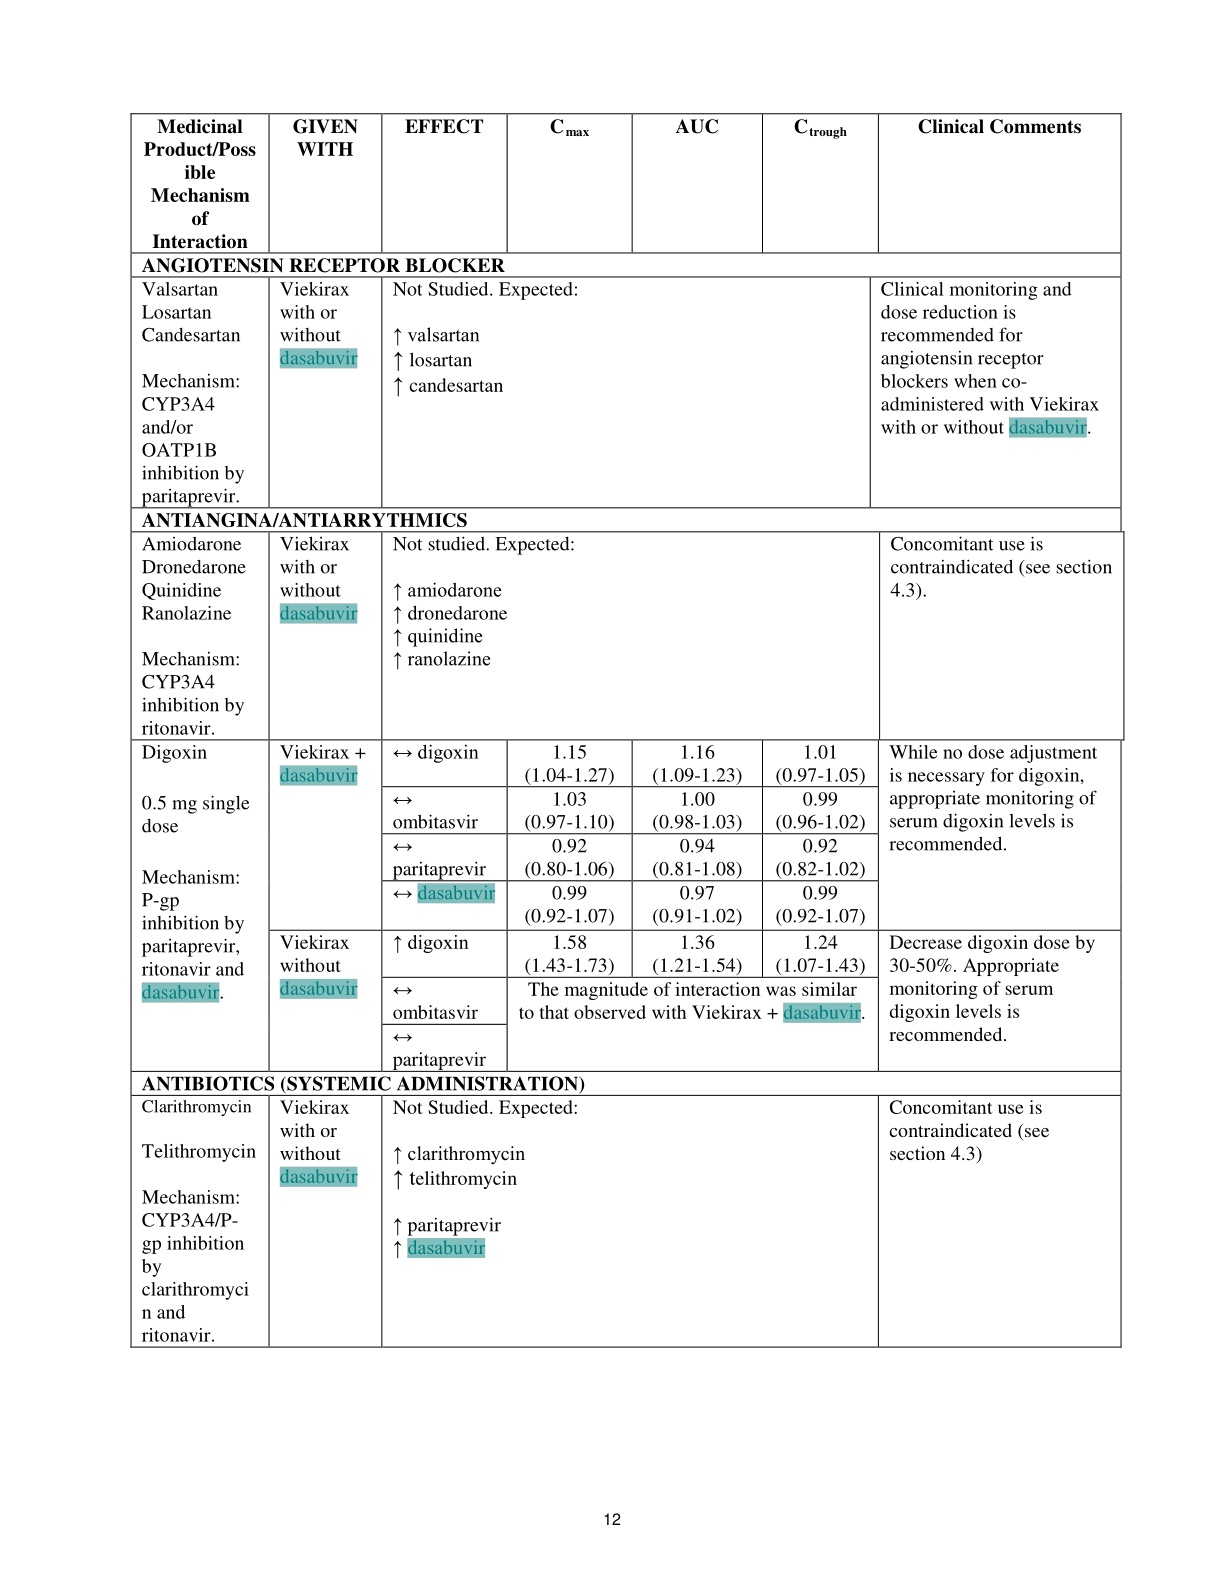merged_cells: (130, 112, 1122, 1347)
